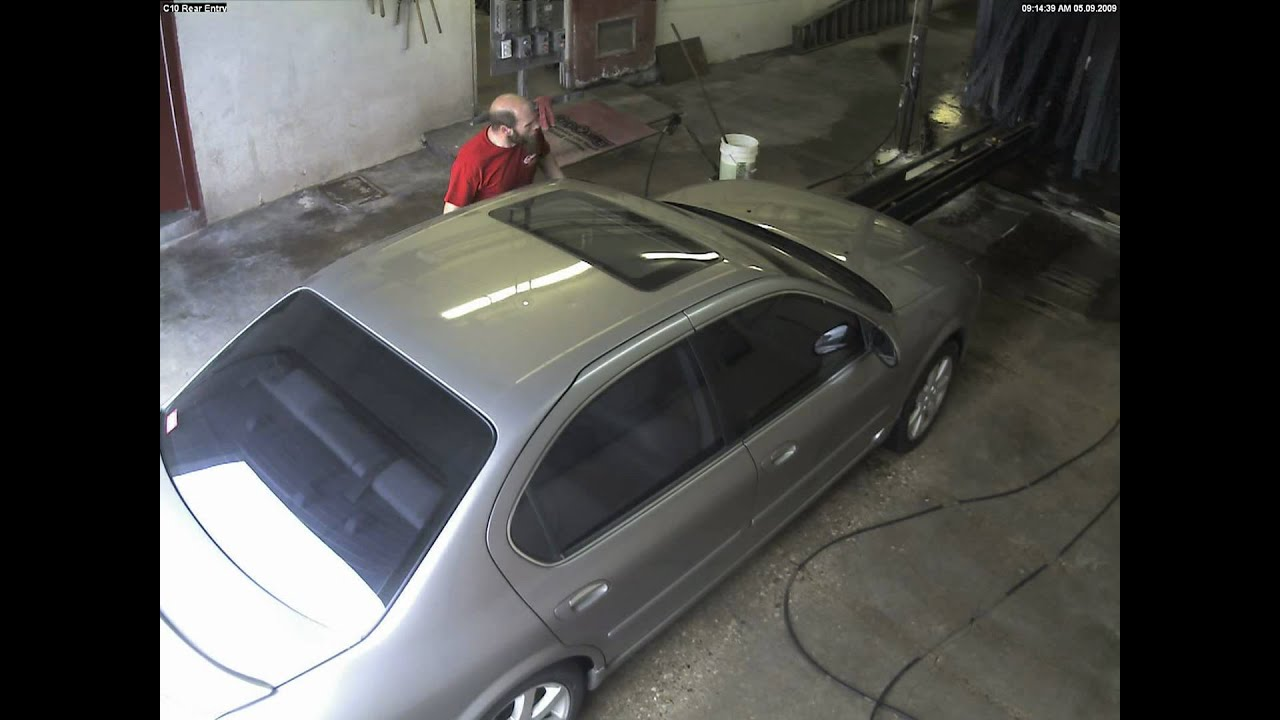car: (158, 174, 986, 711)
